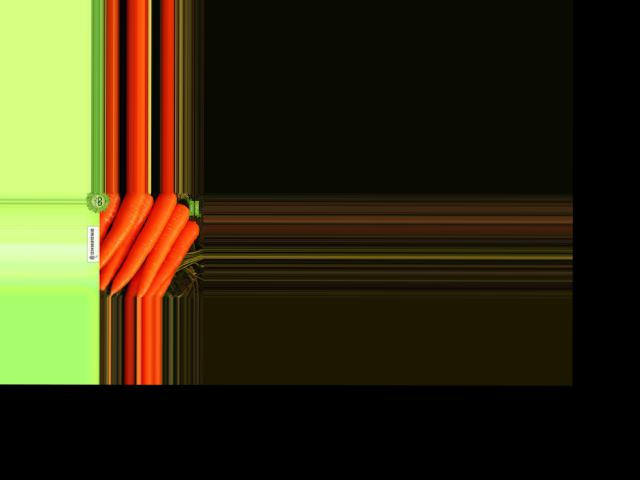carrot: (96, 193, 154, 292)
